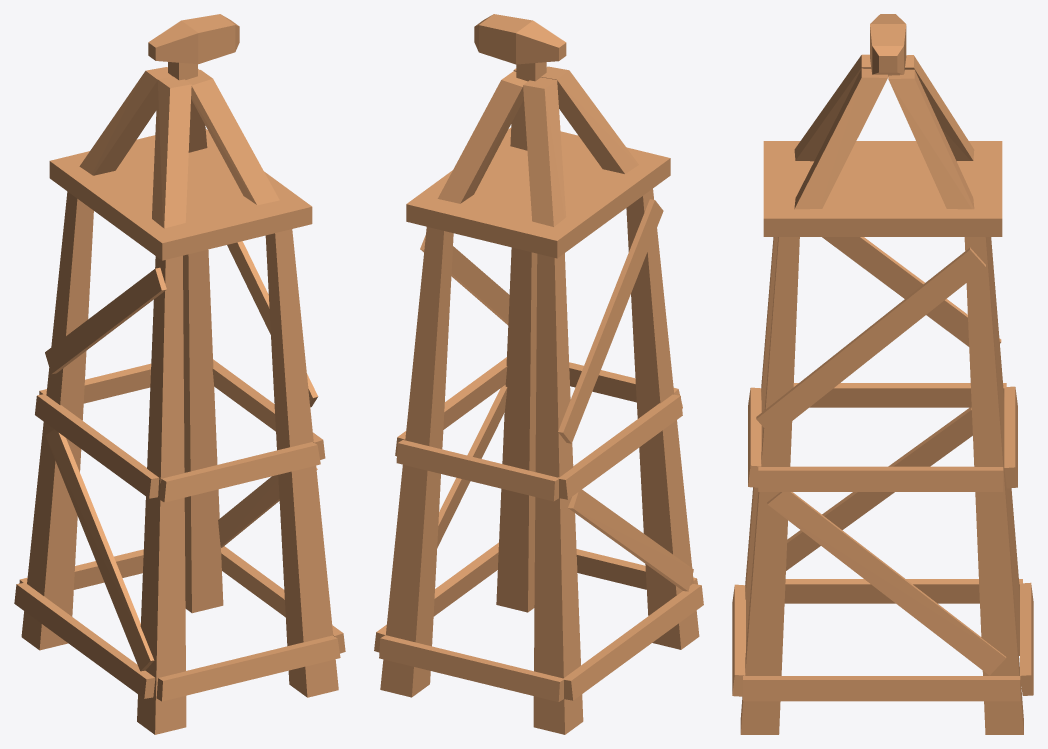
File: windmill_structure.gltf
The picture shows the model from 3 angles, left to right: view 1: azimuth 30°, elevation 25°; view 2: azimuth 150°, elevation 25°; view 3: azimuth 270°, elevation 25°; orthographic projection. The views are drawn at different scales.
Parts seen in each view (by area): view 1: Object_19; view 2: Object_19; view 3: Object_19.
Boxes of the visible parts, x1,y1,x2,y2 form: Object_19: (14,14,345,734); Object_19: (374,14,703,734); Object_19: (732,14,1033,734).
Bounding box in the file's own units: 13 × 39.41 × 16.08.
